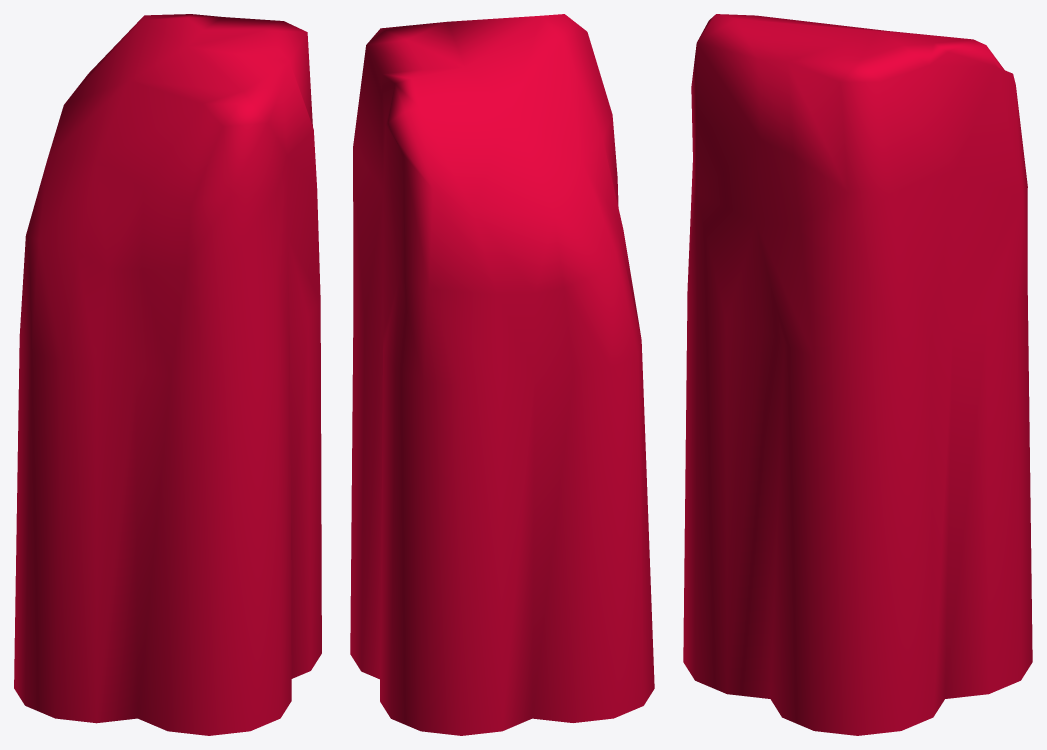
The model's file is Pillar_Flower_Mid_04.fbx.
3 renders of one model, left to right at view 1: azimuth 30°, elevation 25°; view 2: azimuth 150°, elevation 25°; view 3: azimuth 270°, elevation 25°, orthographic. The views are drawn at different scales.
Visible parts, largest first — view 1: Pillar_Flower_Mid_04; view 2: Pillar_Flower_Mid_04; view 3: Pillar_Flower_Mid_04.
Boxes of the visible parts, box(x1,y1,x2,y2) form: Pillar_Flower_Mid_04: box(14, 14, 321, 735); Pillar_Flower_Mid_04: box(350, 14, 654, 735); Pillar_Flower_Mid_04: box(683, 14, 1032, 735).
Bounding box in the file's own units: 85.11 × 176 × 85.23.
